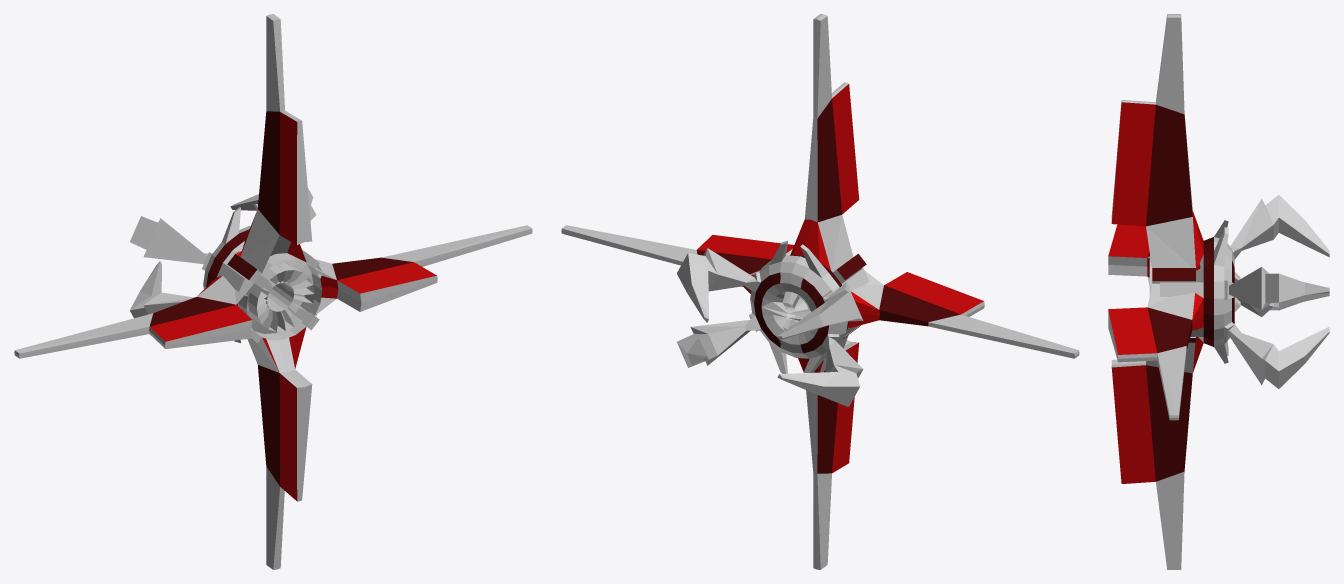
Rendered from SpaceShip_3.obj.
3 views of the same model, side by side, from view 1: azimuth 30°, elevation 25°; view 2: azimuth 150°, elevation 25°; view 3: azimuth 270°, elevation 25° (orthographic).
Parts seen in each view (by area): view 1: Torus; view 2: Torus; view 3: Torus.
Boxes of the visible parts, bbox=[...] form: Torus: bbox=[14, 14, 532, 569]; Torus: bbox=[561, 14, 1079, 569]; Torus: bbox=[1108, 14, 1329, 569].
Size of the model in its own units: 17.91 by 18.34 by 6.66.
